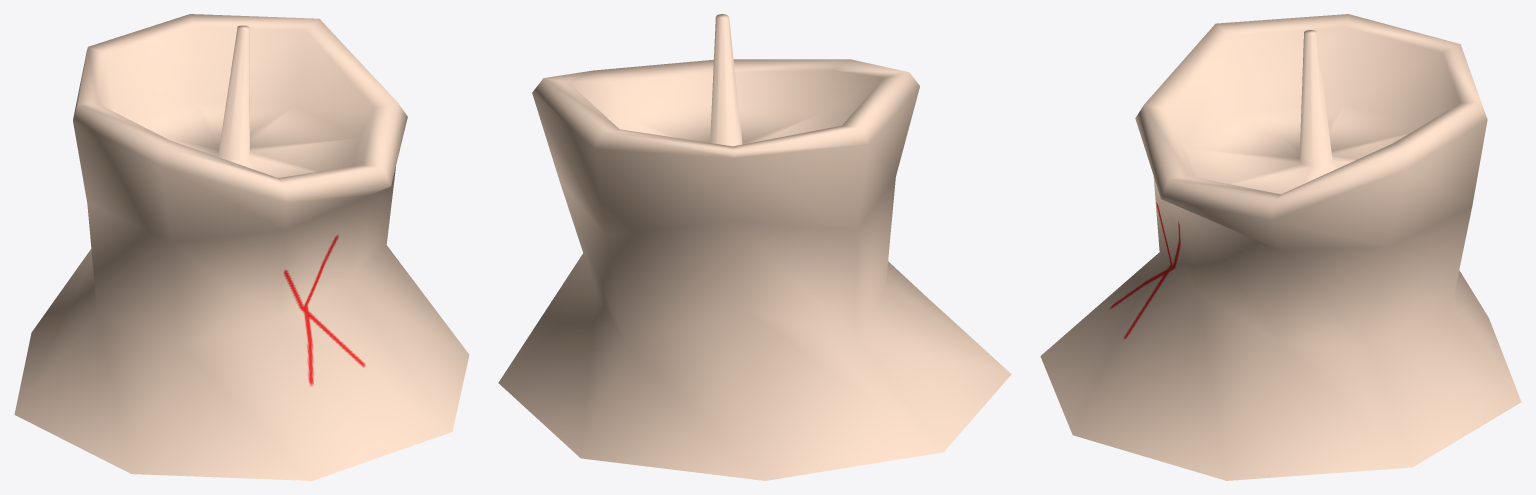
File: Candle4.fbx
3 renders of one model, left to right at view 1: azimuth 30°, elevation 25°; view 2: azimuth 150°, elevation 25°; view 3: azimuth 270°, elevation 25°, orthographic. The views are drawn at different scales.
Visible parts, largest first — view 1: Cylinder.006.LOW; view 2: Cylinder.006.LOW; view 3: Cylinder.006.LOW.
Part boxes in pixels (x1,y1,x2,y2): Cylinder.006.LOW: (14,14,469,480); Cylinder.006.LOW: (498,14,1011,480); Cylinder.006.LOW: (1040,14,1521,480).
Bounding box in the file's own units: 7.51 × 6.11 × 7.5.
